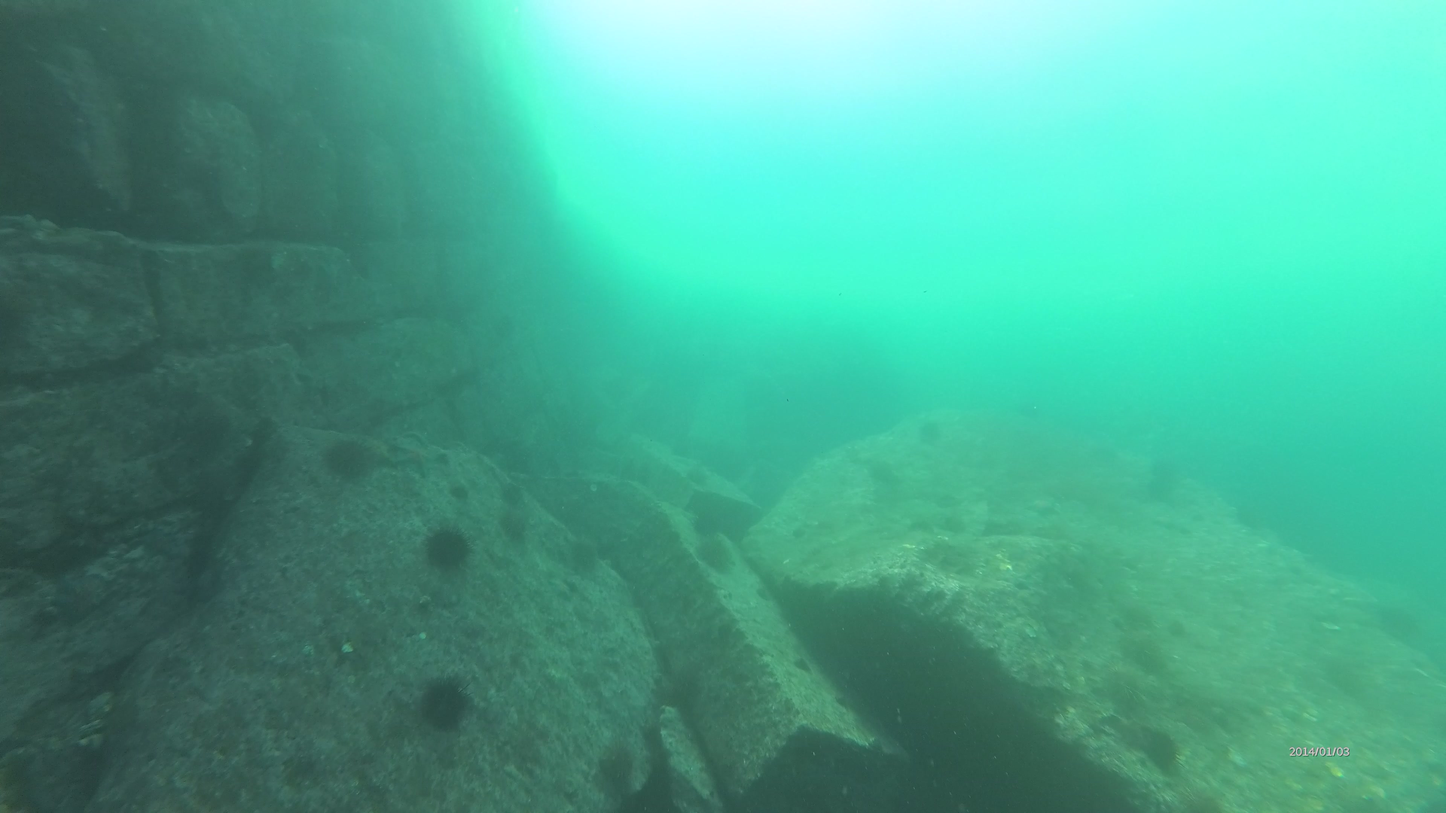starfish: (412, 673, 477, 734), (419, 519, 474, 582), (317, 429, 372, 481)
